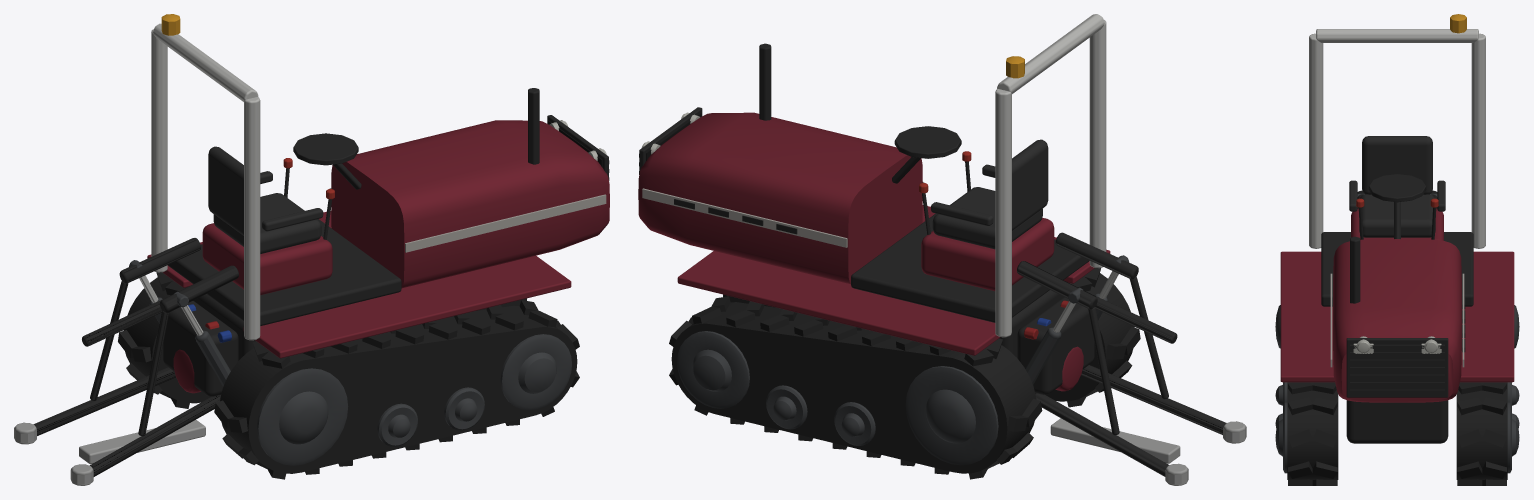
File: SM_Prop_farm_crawler_1.glb
3 renders of one model, left to right at view 1: azimuth 30°, elevation 25°; view 2: azimuth 150°, elevation 25°; view 3: azimuth 270°, elevation 25°, orthographic. The views are drawn at different scales.
Parts seen in each view (by area): view 1: SM_Prop_farm_crawler_1; view 2: SM_Prop_farm_crawler_1; view 3: SM_Prop_farm_crawler_1.
Boxes of the visible parts, x1,y1,x2,y2 form: SM_Prop_farm_crawler_1: (14,14,609,485); SM_Prop_farm_crawler_1: (638,14,1246,485); SM_Prop_farm_crawler_1: (1275,14,1519,485).
Size of the model in its own units: 3.25 by 2.3 by 1.44.
